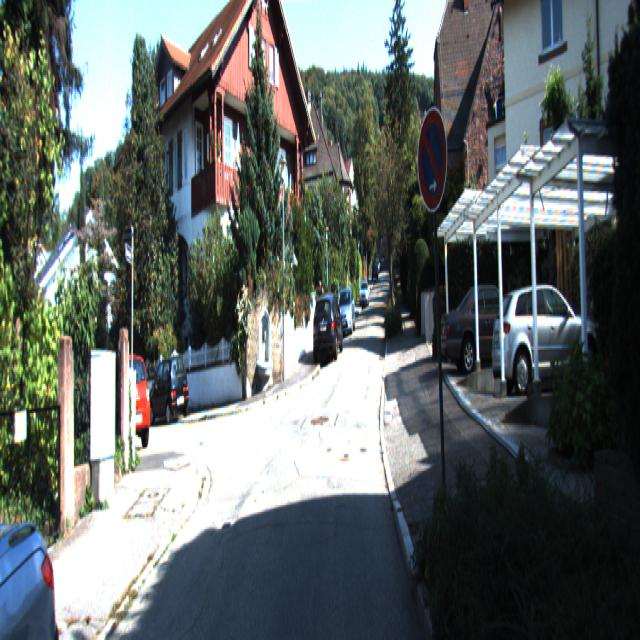Car: (0, 410, 70, 638), (489, 276, 606, 398), (440, 278, 540, 377), (96, 352, 152, 458), (147, 350, 189, 438), (313, 290, 344, 364), (337, 282, 356, 331)
